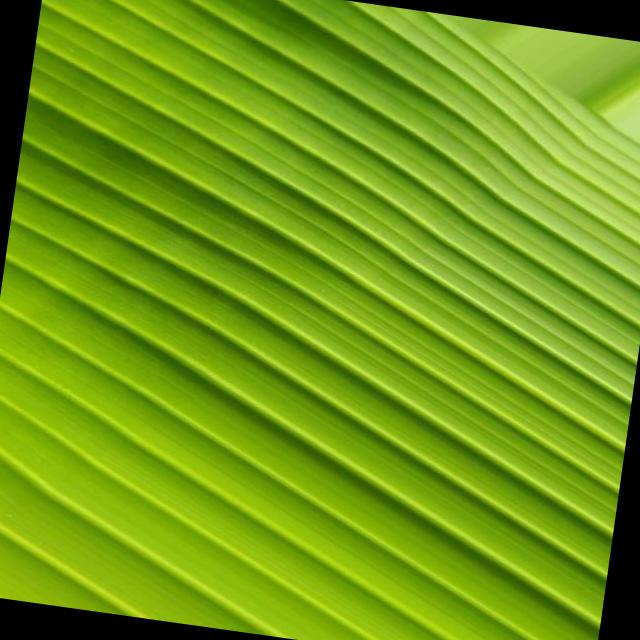Banana_Healthy: (77, 54, 595, 580)
